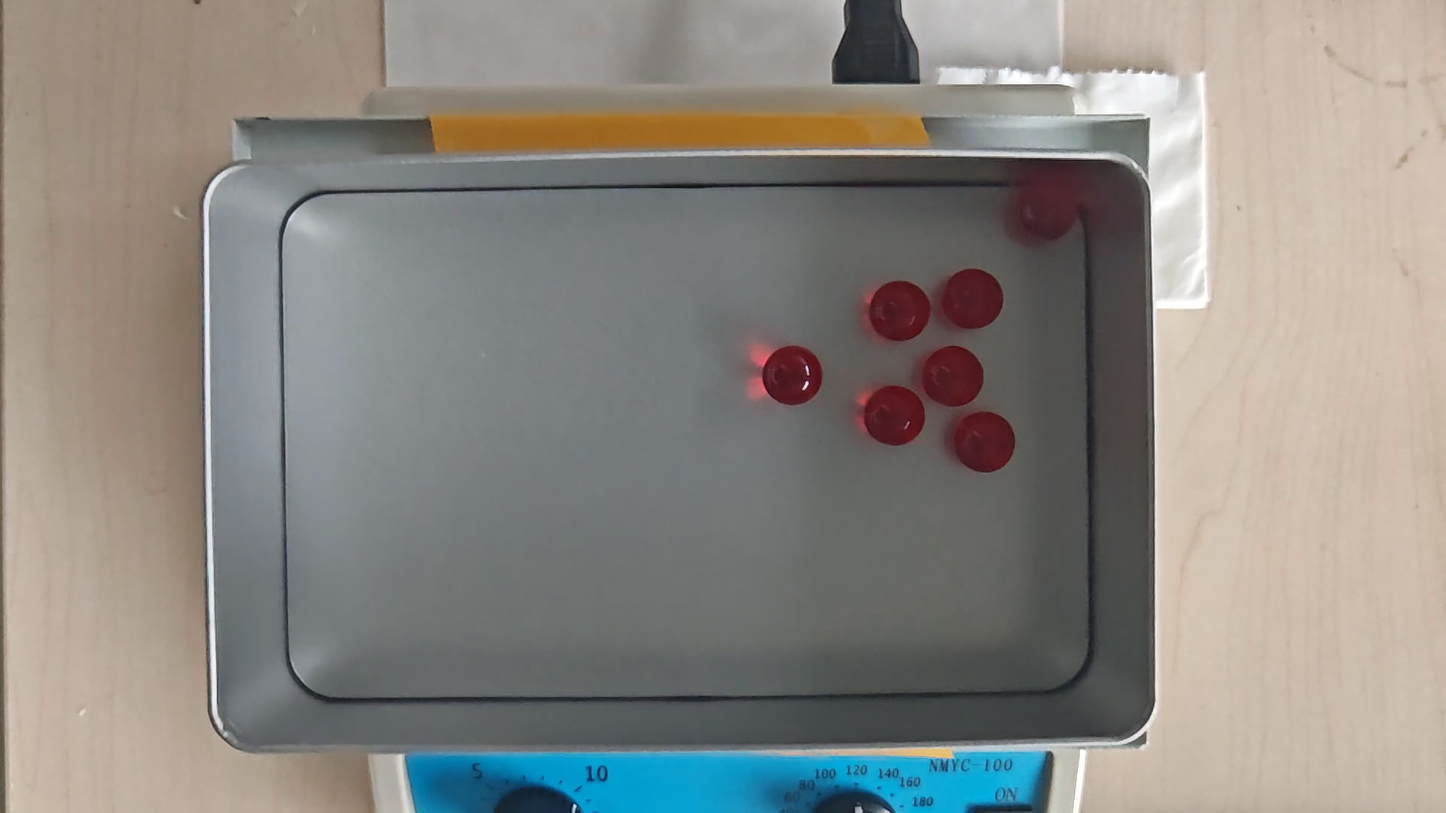ball: (920, 345, 982, 407), (1017, 178, 1078, 239), (865, 387, 927, 446), (943, 271, 1003, 327), (872, 282, 927, 343), (957, 415, 1013, 473), (766, 346, 820, 406)
container: (283, 185, 1089, 698)
